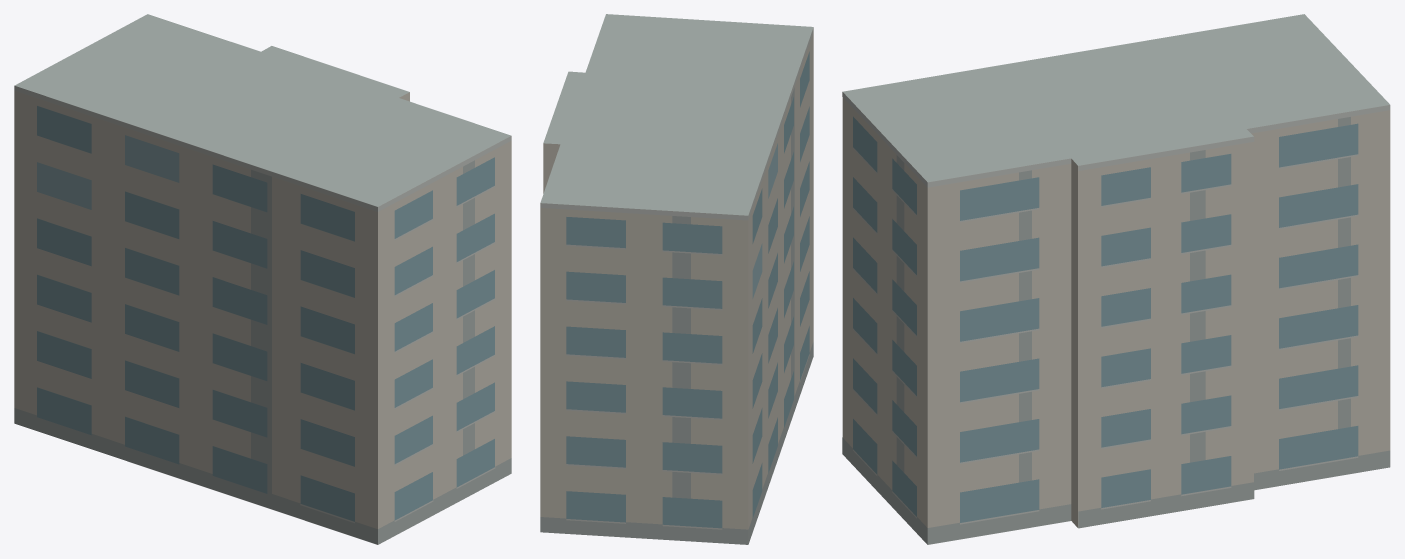
File: survey-upis-32884131.glb
3 renders of one model, left to right at view 1: azimuth 30°, elevation 25°; view 2: azimuth 150°, elevation 25°; view 3: azimuth 270°, elevation 25°, orthographic. The views are drawn at different scales.
Visible parts, largest first — view 1: survey-upis-32884131.tmp; view 2: survey-upis-32884131.tmp; view 3: survey-upis-32884131.tmp.
Boxes of the visible parts, x1=… form: survey-upis-32884131.tmp: x1=14, y1=14, x2=511, y2=544; survey-upis-32884131.tmp: x1=540, y1=14, x2=813, y2=544; survey-upis-32884131.tmp: x1=842, y1=14, x2=1390, y2=544.
Size of the model in its own units: 16.65 by 16.7 by 22.89.
